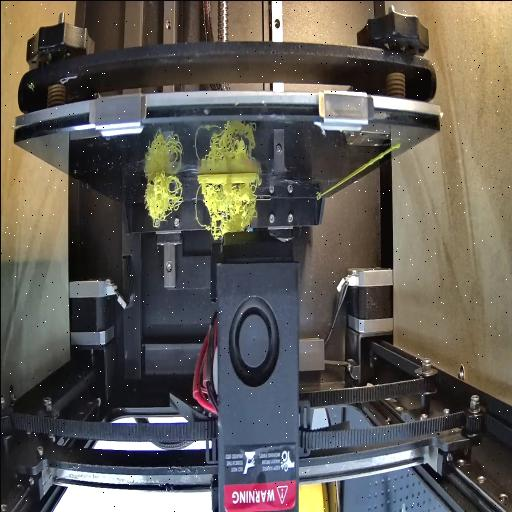spaghetti: (196, 182, 260, 242), (138, 174, 184, 230)
